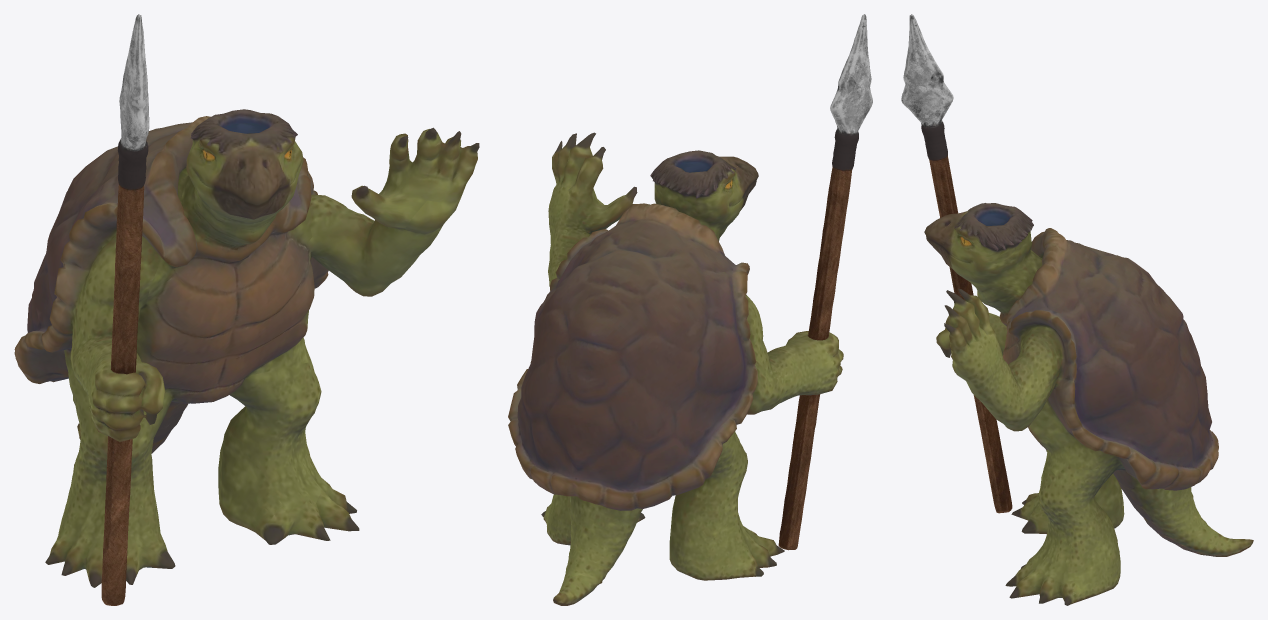
The model's file is MZ4250 - Kappa.glb.
3 renders of one model, left to right at view 1: azimuth 30°, elevation 25°; view 2: azimuth 150°, elevation 25°; view 3: azimuth 270°, elevation 25°, orthographic. The views are drawn at different scales.
Parts seen in each view (by area): view 1: Sphere.002; view 2: Sphere.002; view 3: Sphere.002.
Boxes of the visible parts, x1=… form: Sphere.002: x1=14, y1=14, x2=479, y2=605; Sphere.002: x1=508, y1=14, x2=872, y2=605; Sphere.002: x1=901, y1=14, x2=1253, y2=605.
Size of the model in its own units: 4.69 by 7.69 by 5.07.
2 materials, 2 textured.
